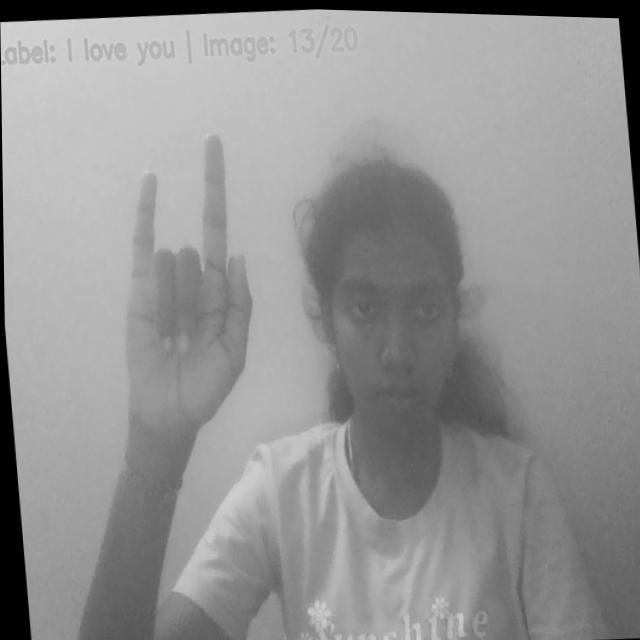I love you: (99, 125, 264, 446)
